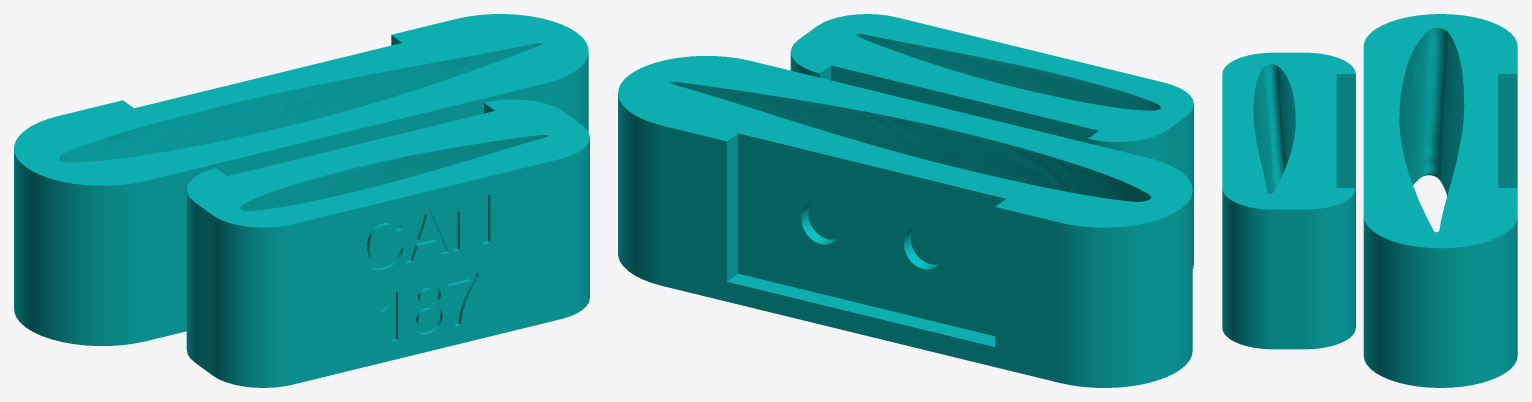
File: foil-gauge.glb
The picture shows the model from 3 angles, left to right: view 1: azimuth 30°, elevation 25°; view 2: azimuth 150°, elevation 25°; view 3: azimuth 270°, elevation 25°; orthographic projection. The views are drawn at different scales.
Parts seen in each view (by area): view 1: BW_diff v12-1, Frontwing_diff v12-1; view 2: Frontwing_diff v12-1, BW_diff v12-1; view 3: Frontwing_diff v12-1, BW_diff v12-1.
Part boxes in pixels (x1,y1,x2,y2): BW_diff v12-1: (186,99,589,387); Frontwing_diff v12-1: (14,14,588,345); Frontwing_diff v12-1: (618,56,1192,387); BW_diff v12-1: (790,14,1193,268); Frontwing_diff v12-1: (1363,14,1517,387); BW_diff v12-1: (1222,52,1355,349).
Bounding box in the file's own units: 0.1439 × 0.04 × 0.0767.
